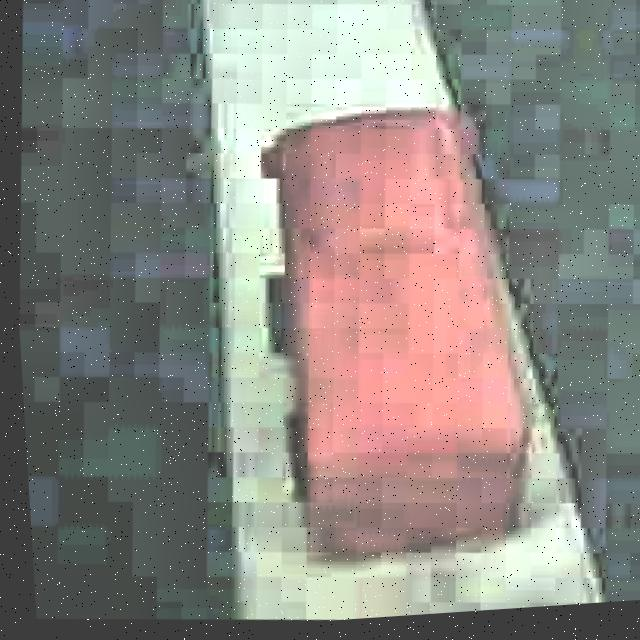bus: (225, 82, 566, 591)
